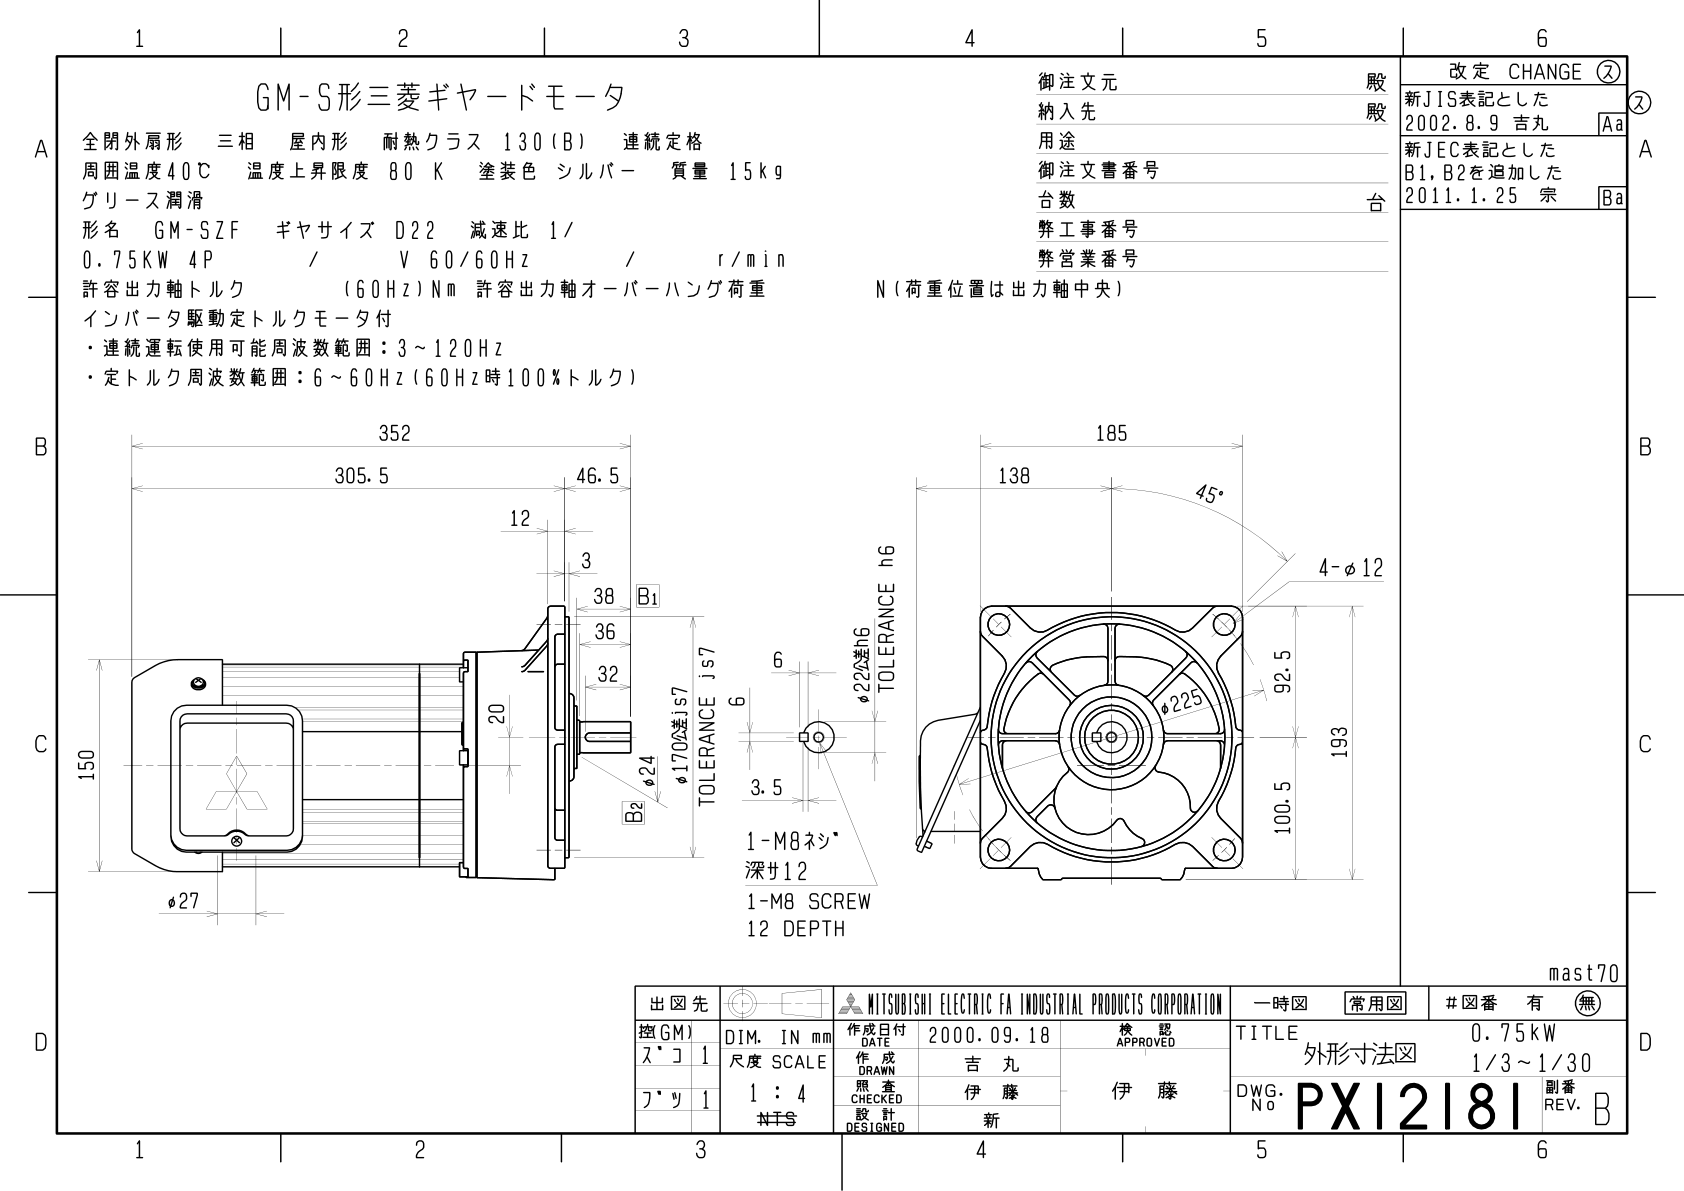GM_S_インバタ屋内＿三相_フランジ: (1, 5, 1674, 1183)
